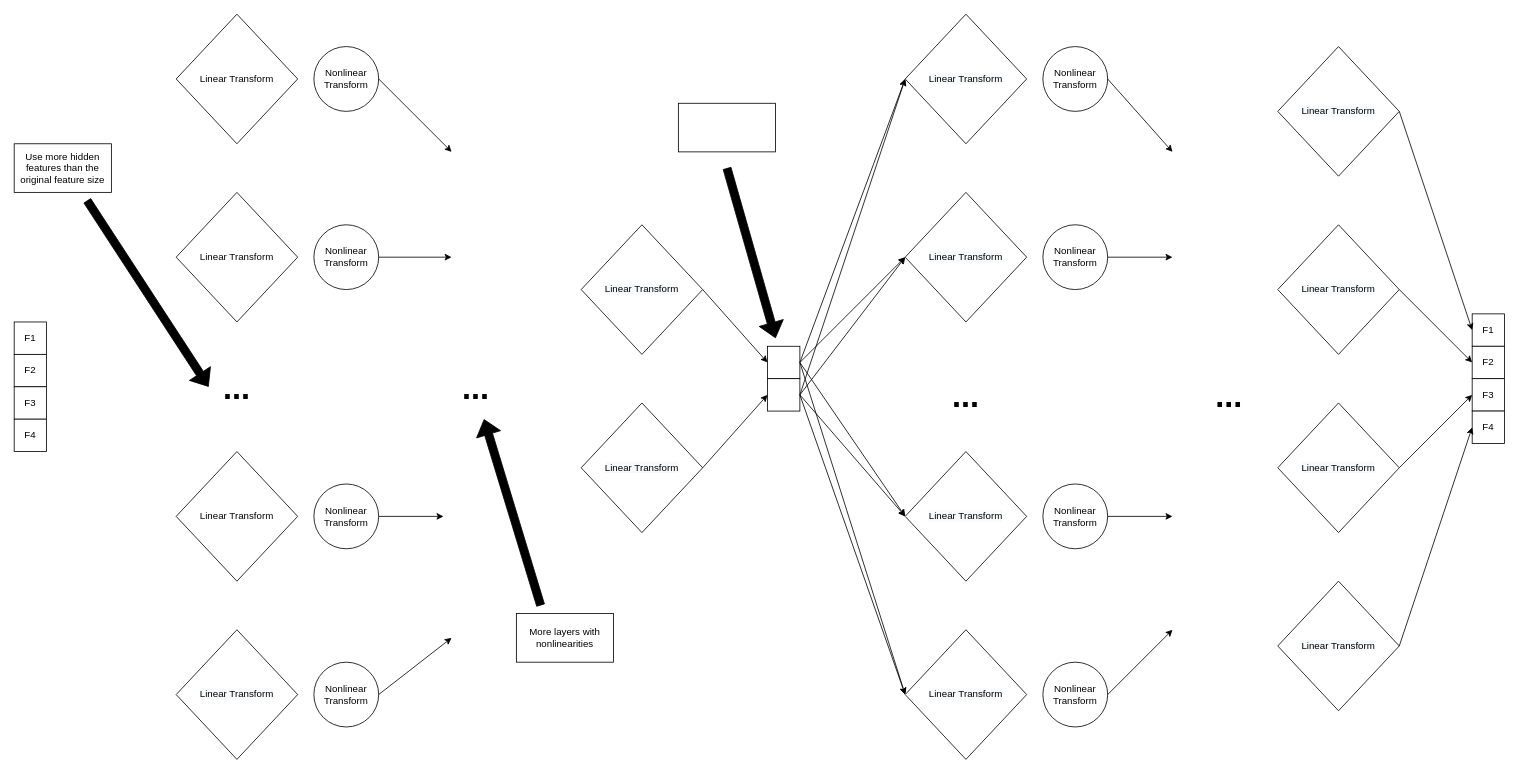
The diagram is 1519 pixels wide and 774 high, and some of its shapes have lost their labels. Each missing label, with the box of its shape:
Compressed Feature Vector: (678, 102, 776, 152)
F11: (767, 345, 800, 379)
F12: (767, 378, 800, 411)
